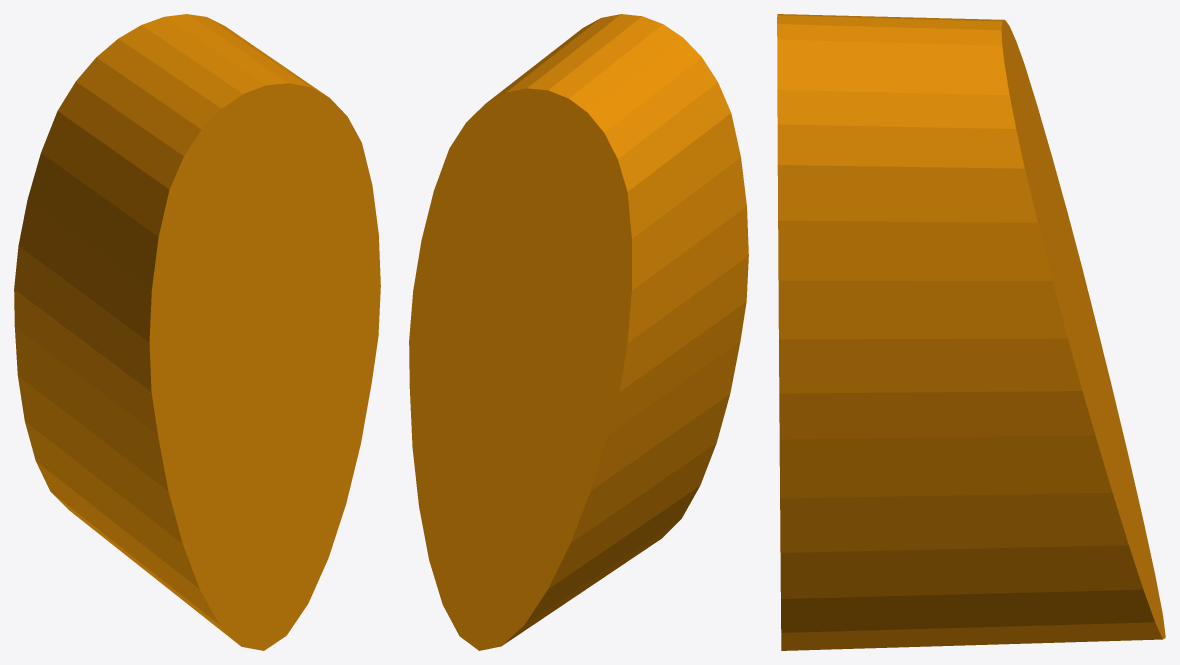
File: food_dispenser_L-button.glb
3 renders of one model, left to right at view 1: azimuth 30°, elevation 25°; view 2: azimuth 150°, elevation 25°; view 3: azimuth 270°, elevation 25°, orthographic. The views are drawn at different scales.
Visible parts, largest first — view 1: Cylinder.018; view 2: Cylinder.018; view 3: Cylinder.018.
Boxes of the visible parts, x1,y1,x2,y2 form: Cylinder.018: (14,14,380,650); Cylinder.018: (409,14,748,650); Cylinder.018: (777,14,1165,650).
Bounding box in the file's own units: 0.0758 × 0.1775 × 0.1.
